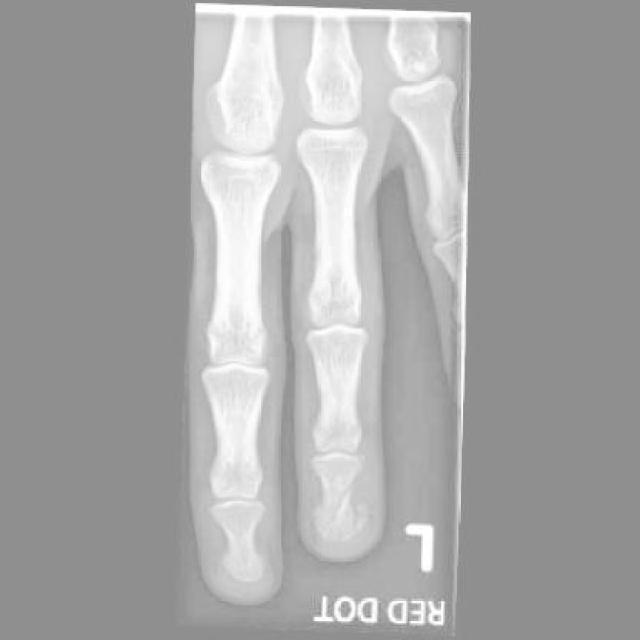Fracture: (302, 480, 382, 566)
